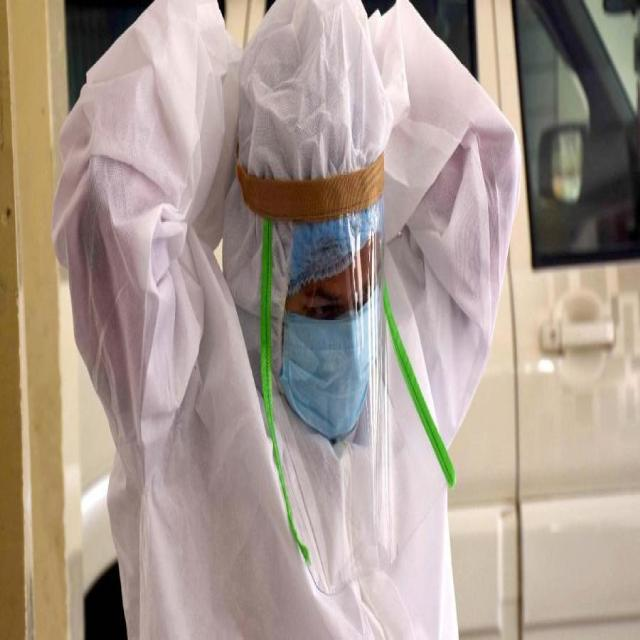Coverall: (51, 0, 521, 637)
Mask: (279, 299, 384, 438)
